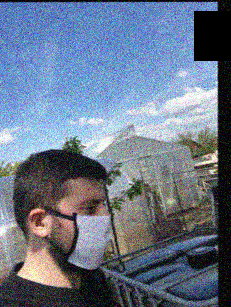with_mask: (64, 193, 112, 273)
